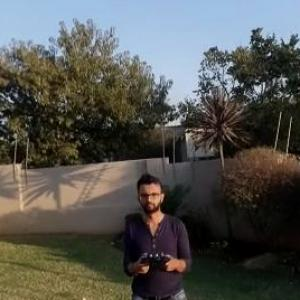follow: (119, 170, 198, 299)
